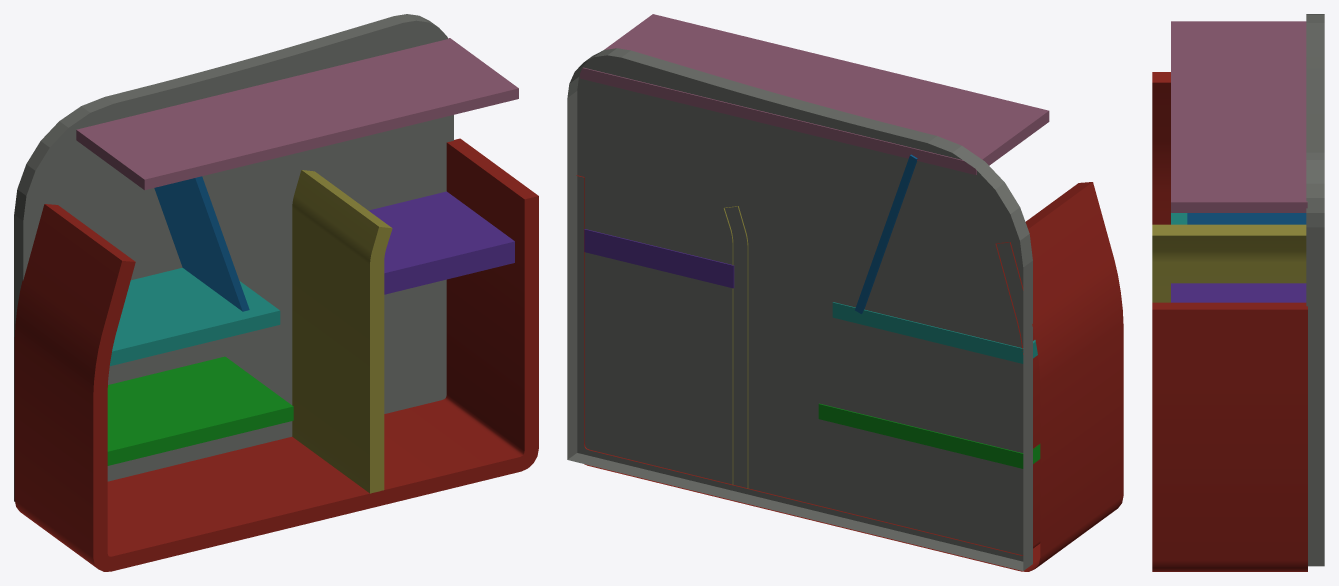
The model's file is Shelve_Style_05.fbx.
The picture shows the model from 3 angles, left to right: view 1: azimuth 30°, elevation 25°; view 2: azimuth 150°, elevation 25°; view 3: azimuth 270°, elevation 25°; orthographic projection. The views are drawn at different scales.
Parts seen in each view (by area): view 1: SetA_Shelve_Style_05; view 2: SetA_Shelve_Style_05; view 3: SetA_Shelve_Style_05.
Part boxes in pixels (left/top/right/bottom): SetA_Shelve_Style_05: left=14, top=14, right=538, bottom=571; SetA_Shelve_Style_05: left=567, top=14, right=1123, bottom=571; SetA_Shelve_Style_05: left=1152, top=14, right=1324, bottom=571.
Size of the model in its own units: 0.3414 by 0.2942 by 0.1155.
